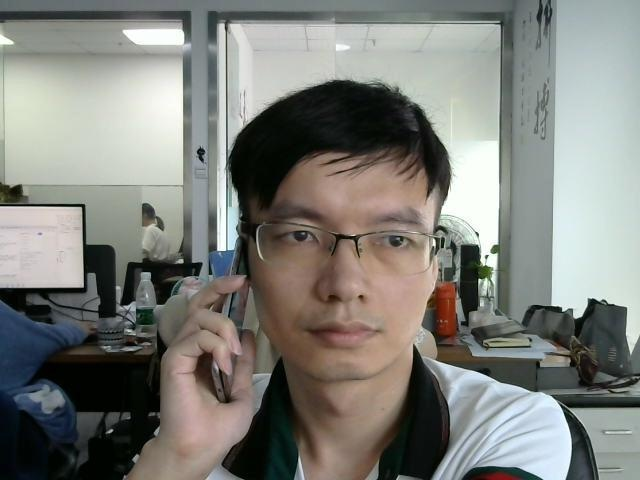hand: (160, 272, 258, 428)
